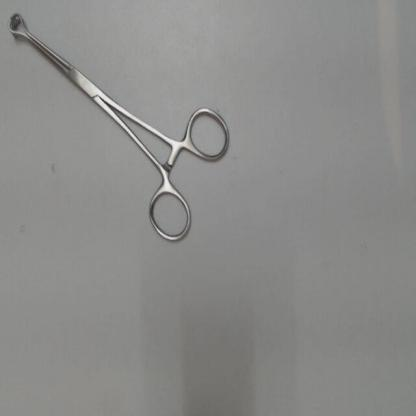Babcock Tissue Forceps: (5, 8, 234, 248)
